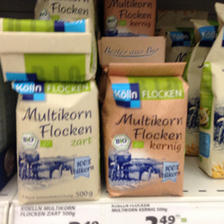cereal: (104, 63, 191, 194), (8, 81, 101, 202), (105, 1, 157, 37)
